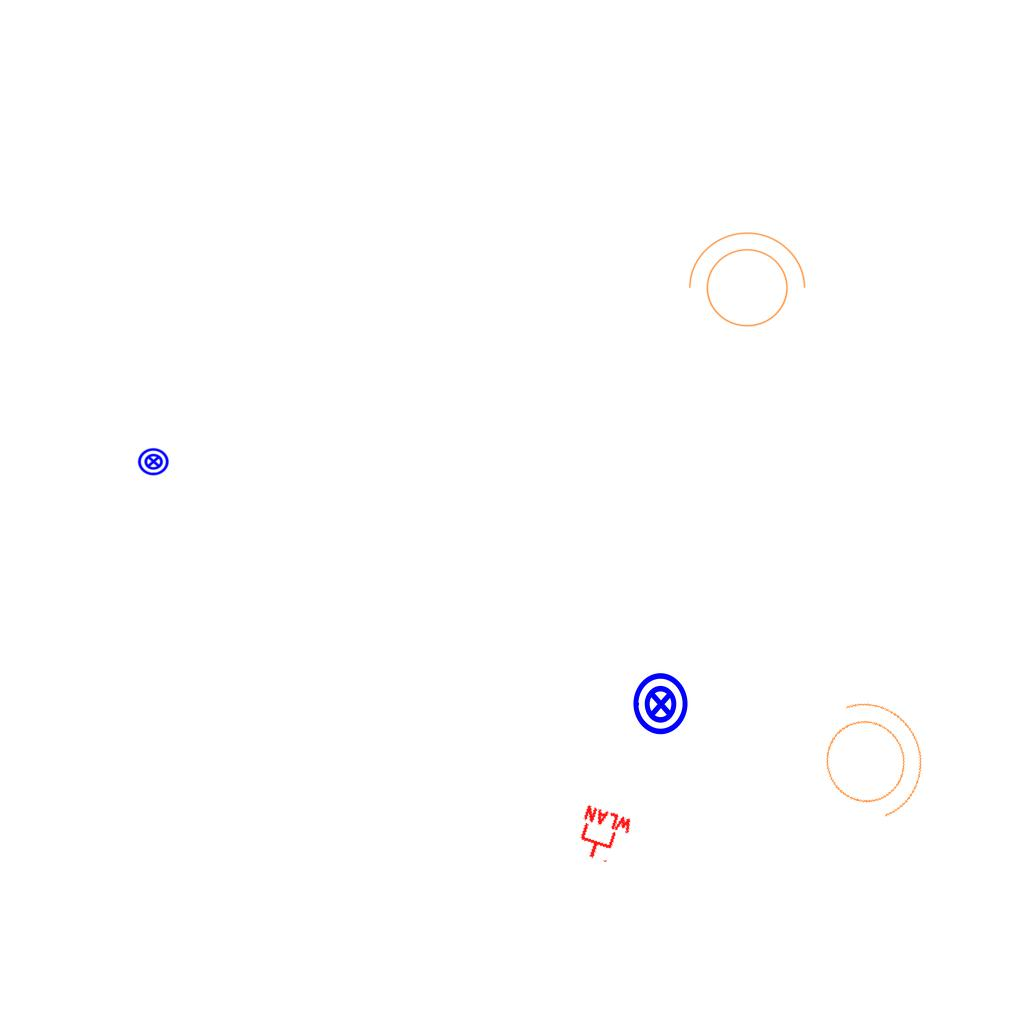Scheinwerfer_fuer_Alarmbeleuchtung: (793, 675, 945, 839), (678, 227, 810, 339)
Taster_beleuchtet: (628, 671, 694, 737), (137, 445, 170, 478)
WLAN: (570, 803, 636, 869)
